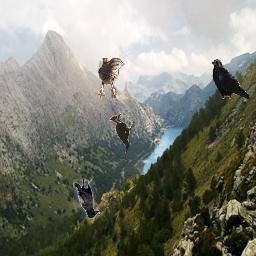Crow: (211, 59, 249, 99), (73, 179, 99, 219)
Sparrow: (98, 58, 125, 98)
Woodpecker: (109, 113, 135, 153)
